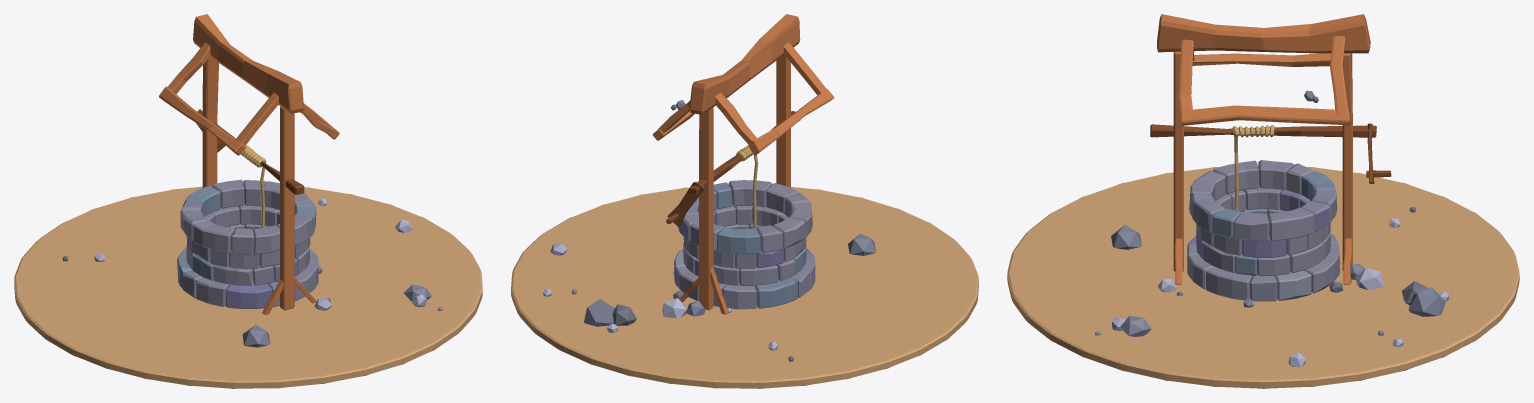
File: well.glb
3 views of the same model, side by side, from view 1: azimuth 30°, elevation 25°; view 2: azimuth 150°, elevation 25°; view 3: azimuth 270°, elevation 25° (orthographic). The views are drawn at different scales.
Parts seen in each view (by area): view 1: Cylinder, Cube.004, Cube.003, Cube, Cube.002, Cube.001, Icosphere.015; view 2: Cylinder, Cube.004, Cube.003, Cube, Cube.002, Cube.001, Icosphere.007, Icosphere.015, Icosphere.008; view 3: Cylinder, Cube.004, Cube.003, Cube, Cube.002, Cube.001, Icosphere.007, Icosphere.015, Icosphere.010, Icosphere.002.
Part boxes in pixels (x1,y1,x2,y2): Cylinder: (14, 186, 482, 388); Cube.004: (159, 14, 339, 314); Cube.003: (180, 179, 316, 255); Cube: (177, 247, 318, 308); Cube.002: (186, 204, 310, 268); Cube.001: (186, 223, 309, 285); Icosphere.015: (242, 325, 270, 347); Cylinder: (511, 187, 978, 388); Cube.004: (652, 14, 834, 314); Cube.003: (677, 180, 812, 254); Cube: (673, 248, 815, 309); Cube.002: (683, 204, 806, 268); Cube.001: (683, 221, 806, 285); Icosphere.007: (584, 299, 614, 326); Icosphere.015: (848, 233, 876, 255); Icosphere.008: (612, 304, 636, 325); Cylinder: (1007, 165, 1519, 388); Cube.004: (1150, 14, 1391, 284); Cube.003: (1189, 160, 1337, 241); Cube: (1187, 234, 1340, 301); Cube.002: (1196, 184, 1330, 257); Cube.001: (1196, 208, 1330, 275); Icosphere.007: (1408, 287, 1445, 316); Icosphere.015: (1111, 225, 1141, 249); Icosphere.010: (1355, 268, 1383, 290); Icosphere.002: (1120, 315, 1151, 336).
Bounding box in the file's own units: 44.59 × 25.63 × 44.59.
